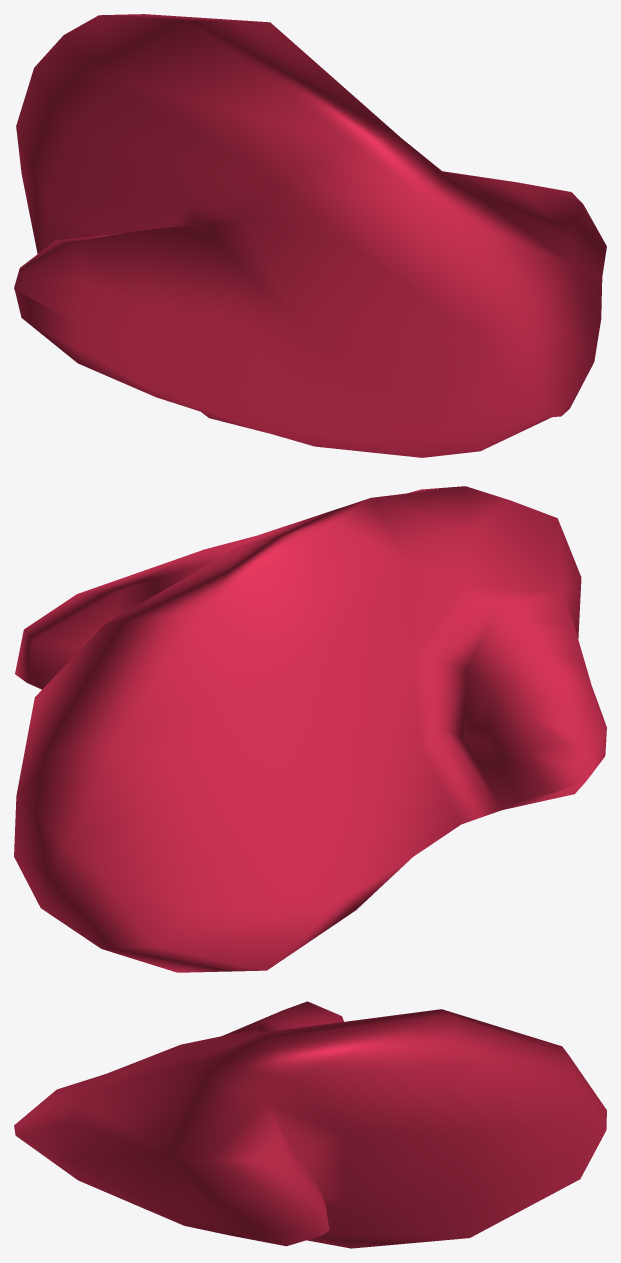
Rendered from Flecha.fbx.
The picture shows the model from 3 angles, top to bottom: view 1: azimuth 30°, elevation 25°; view 2: azimuth 150°, elevation 25°; view 3: azimuth 270°, elevation 25°; orthographic projection. The views are drawn at different scales.
Parts seen in each view (by area): view 1: Plane018; view 2: Plane018; view 3: Plane018.
Part boxes in pixels (x1,y1,x2,y2): Plane018: [14, 14, 606, 457]; Plane018: [14, 486, 606, 972]; Plane018: [14, 1001, 606, 1248].
Size of the model in its own units: 0.2727 by 0.1625 by 0.3918.
